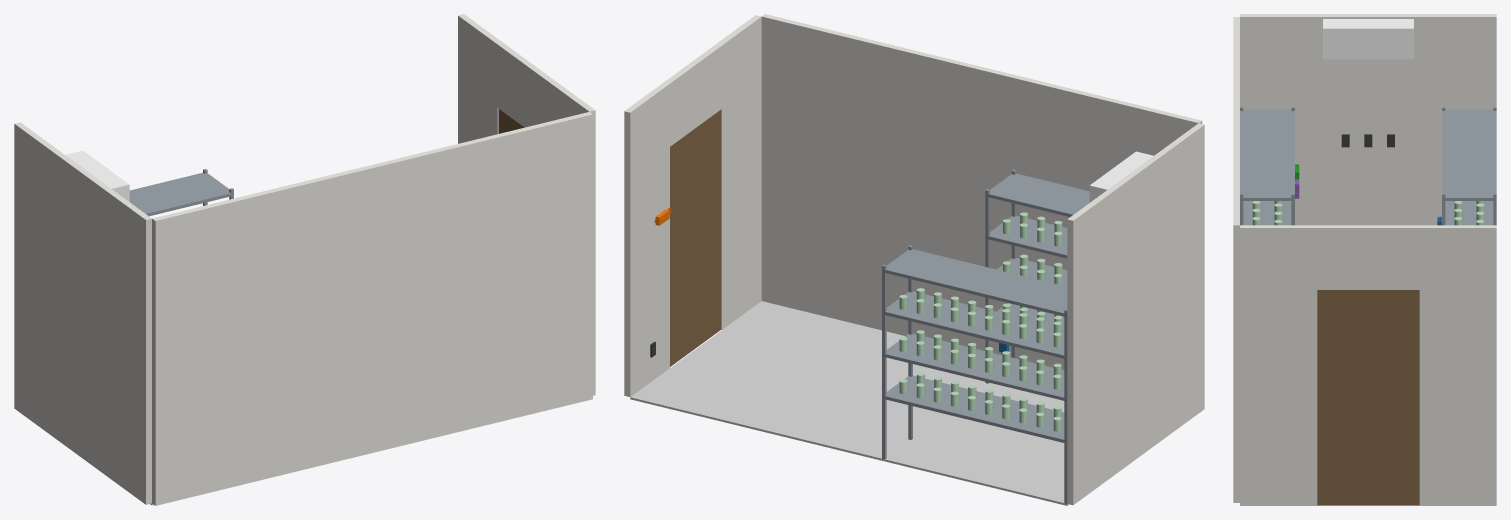
The model's file is cuarto.glb.
3 renders of one model, left to right at view 1: azimuth 30°, elevation 25°; view 2: azimuth 150°, elevation 25°; view 3: azimuth 270°, elevation 25°, orthographic. The views are drawn at different scales.
Parts seen in each view (by area): view 1: paredes, anaqueles, minisplit; view 2: paredes, piso, anaqueles, puerta, frascos, minisplit; view 3: paredes, puerta, anaqueles, minisplit, frascos, contactos.
Part boxes in pixels (x1,y1,x2,y2): paredes: [14, 14, 595, 505]; anaqueles: [129, 169, 233, 216]; minisplit: [65, 150, 129, 201]; paredes: [624, 14, 1204, 505]; piso: [630, 301, 1068, 505]; anaqueles: [882, 169, 1089, 503]; puerta: [670, 110, 720, 366]; frascos: [899, 212, 1062, 431]; minisplit: [1089, 151, 1153, 202]; paredes: [1233, 14, 1496, 505]; puerta: [1317, 290, 1419, 505]; anaqueles: [1240, 106, 1496, 225]; minisplit: [1323, 19, 1413, 59]; frascos: [1252, 201, 1484, 225]; contactos: [1341, 134, 1394, 147].
Size of the model in its own units: 4.46 by 2.72 by 2.32.
